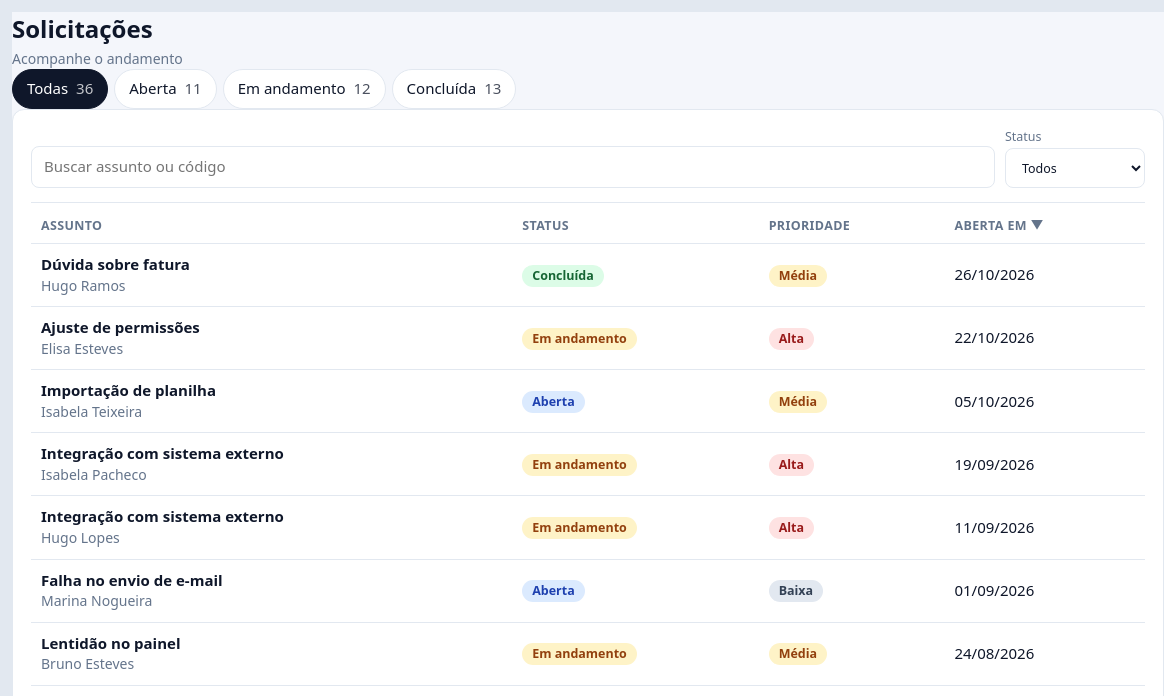
Test: tela Solicitações › filtra por status pelas abas e abre o detalhe
This screenshot has width=1164, height=696.
What coordinates should you click on to do the following:
click the tab "Concluída 13"
I would click on:
 (454, 89)
Its box is [392,69,516,109].
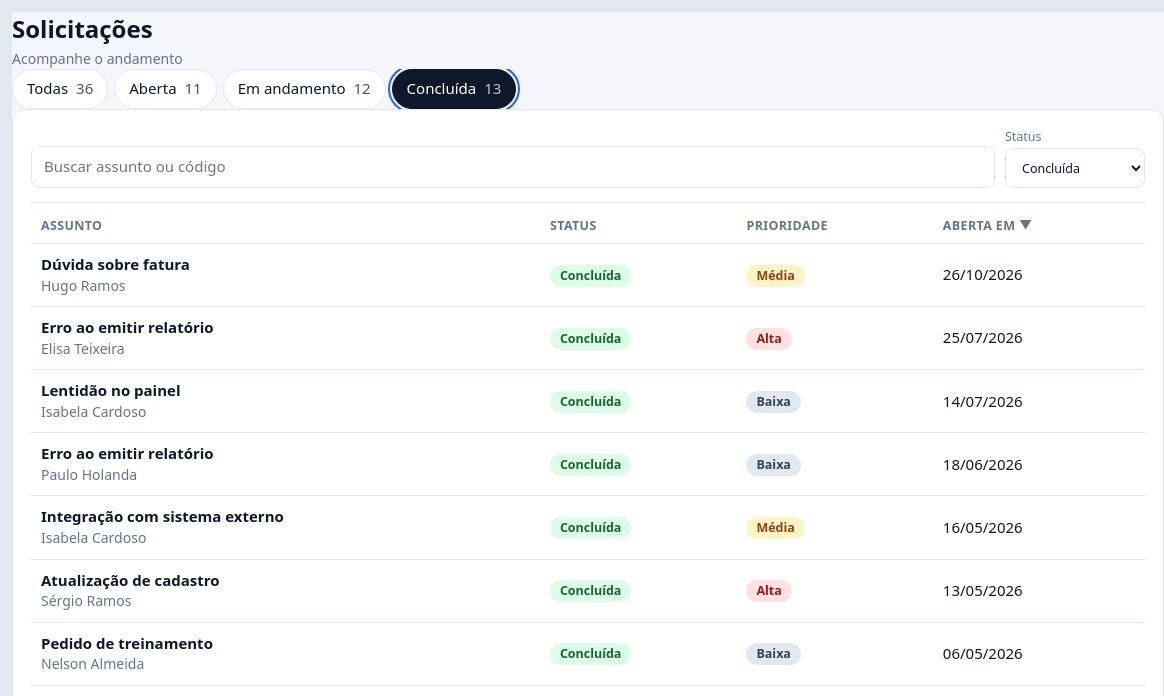
What coordinates should you click on to do the following:
click the text "Concluída" in the row of "Dúvida sobre fatura"
I would click on:
 (591, 276)
Its box is [550,265,631,287].
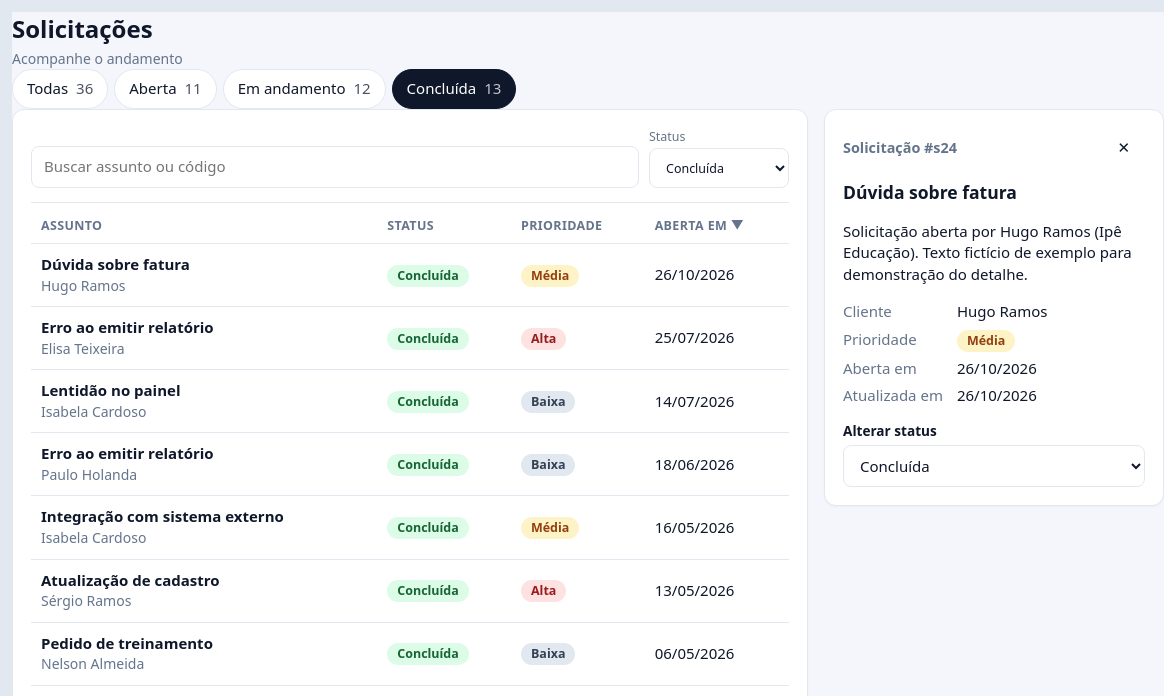
expect the heading "Solicitação #s24" is shown: met, box [843,138,957,159]
